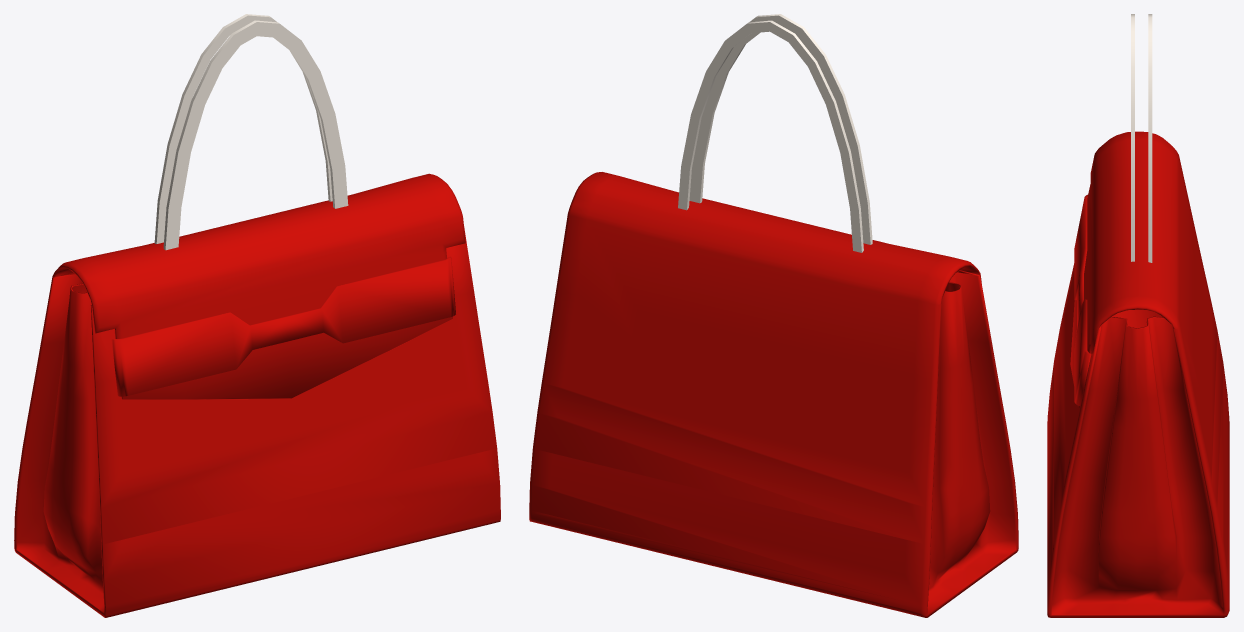
The model's file is az detaylı çanta 4.fbx.
3 views of the same model, side by side, from view 1: azimuth 30°, elevation 25°; view 2: azimuth 150°, elevation 25°; view 3: azimuth 270°, elevation 25° (orthographic). The views are drawn at different scales.
Visible parts, largest first — view 1: skp9D23_1, Group1; view 2: skp9D23_1, Group1; view 3: skp9D23_1, Group1.
Boxes of the visible parts, x1=… form: skp9D23_1: x1=14, y1=173, x2=500, y2=617; Group1: x1=154, y1=14, x2=348, y2=250; skp9D23_1: x1=529, y1=172, x2=1018, y2=617; Group1: x1=678, y1=14, x2=872, y2=252; skp9D23_1: x1=1047, y1=131, x2=1229, y2=617; Group1: x1=1131, y1=14, x2=1152, y2=262.
Size of the model in its own units: 1009 by 1298 by 413.
